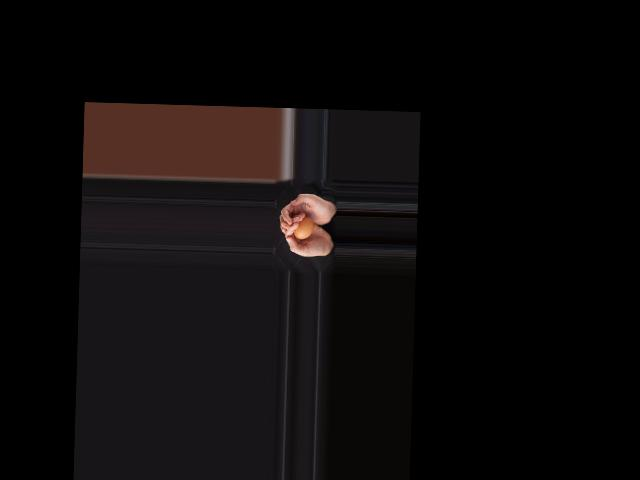egg: (293, 215, 314, 239)
